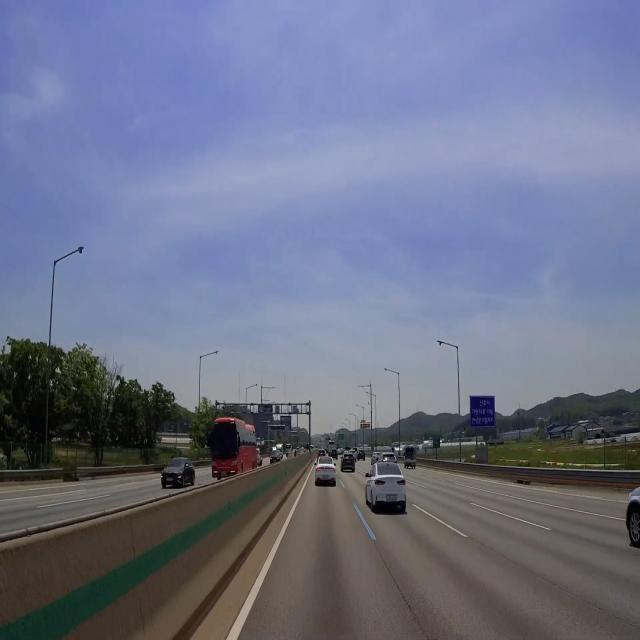car: (162, 475, 177, 489), (218, 466, 230, 483), (319, 472, 332, 486), (385, 494, 400, 503)
